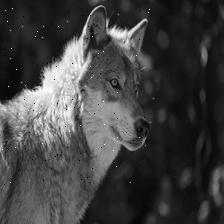WOLF: (0, 6, 154, 185)
